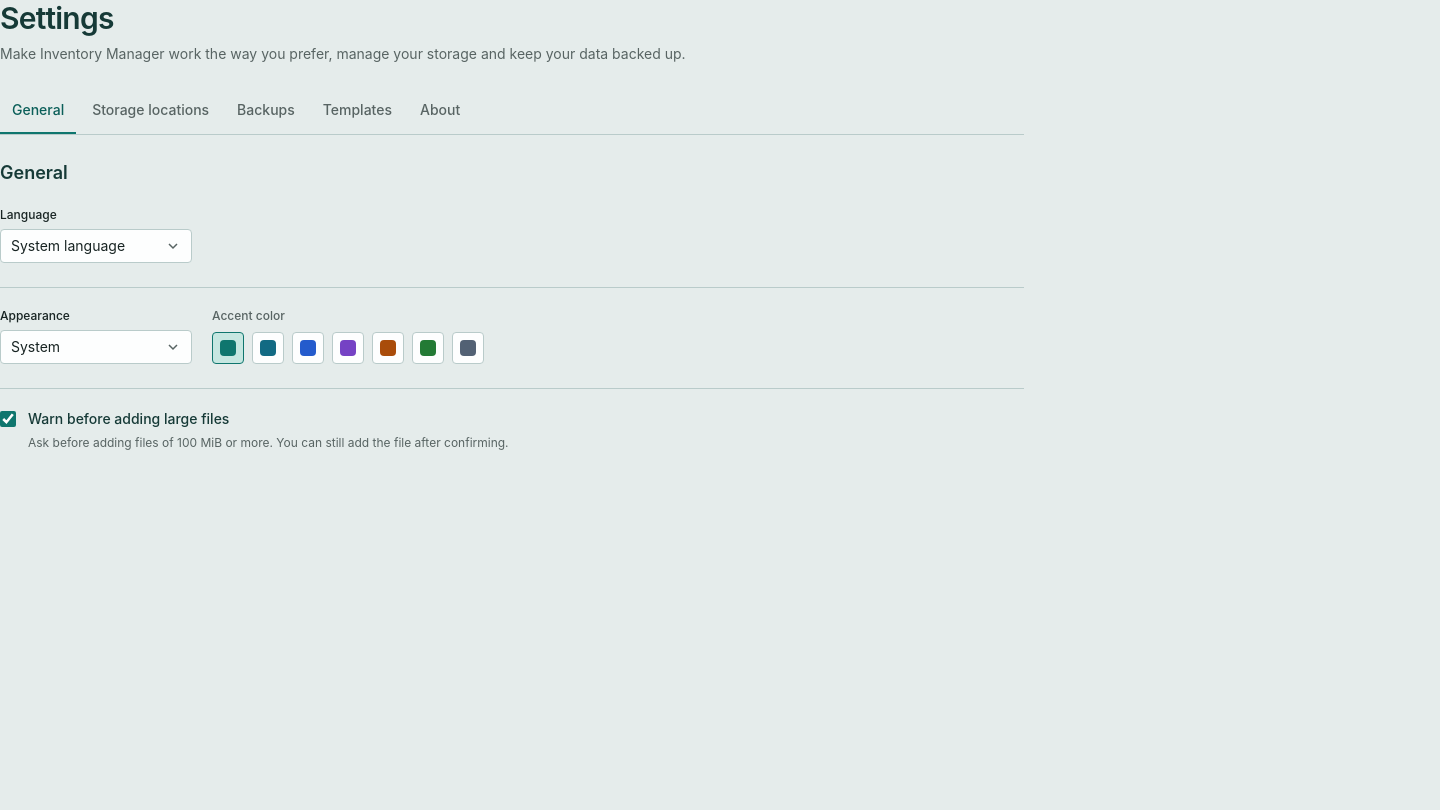
Test: reloads authoritative preferences after an explicit conflict recovery action
Click the dropdown named "Appearance".
click(96, 347)  # box [0, 330, 192, 364]
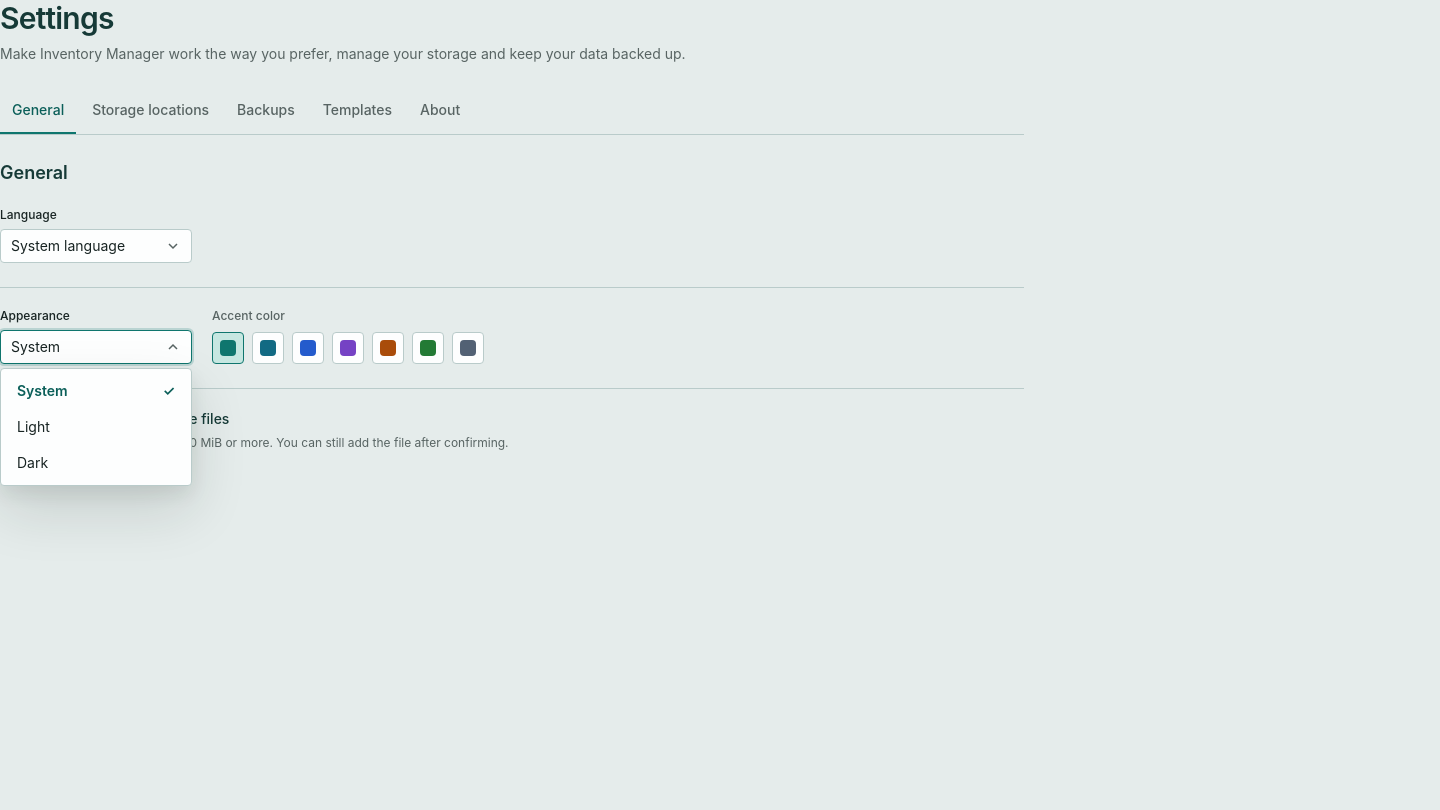
Click the option "Dark".
click(96, 463)  # box [5, 445, 187, 481]
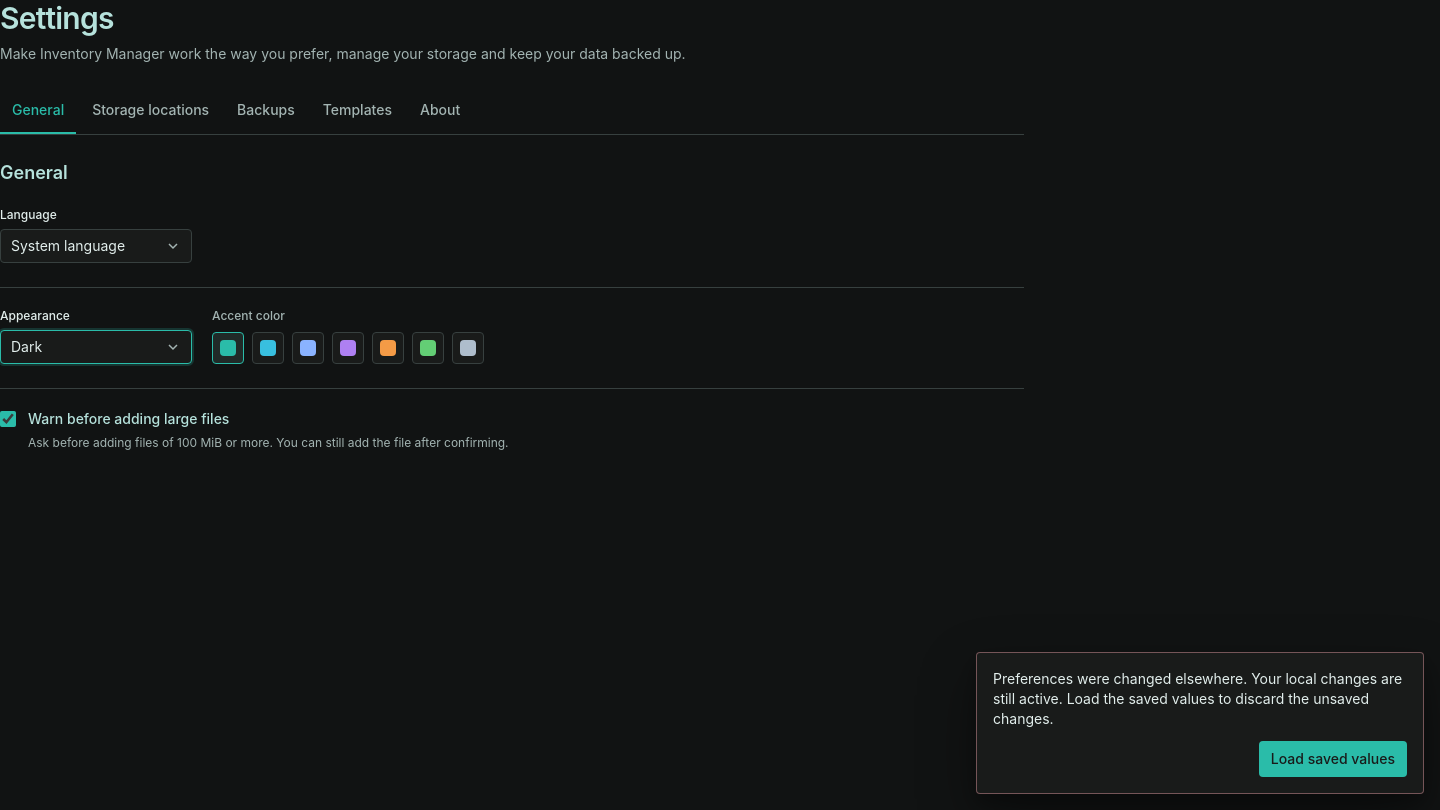
Check: the message shows "changed elsewhere", box [993, 670, 1402, 727]
Click the button "Load saved values".
click(1333, 759)  # box [1259, 741, 1407, 777]
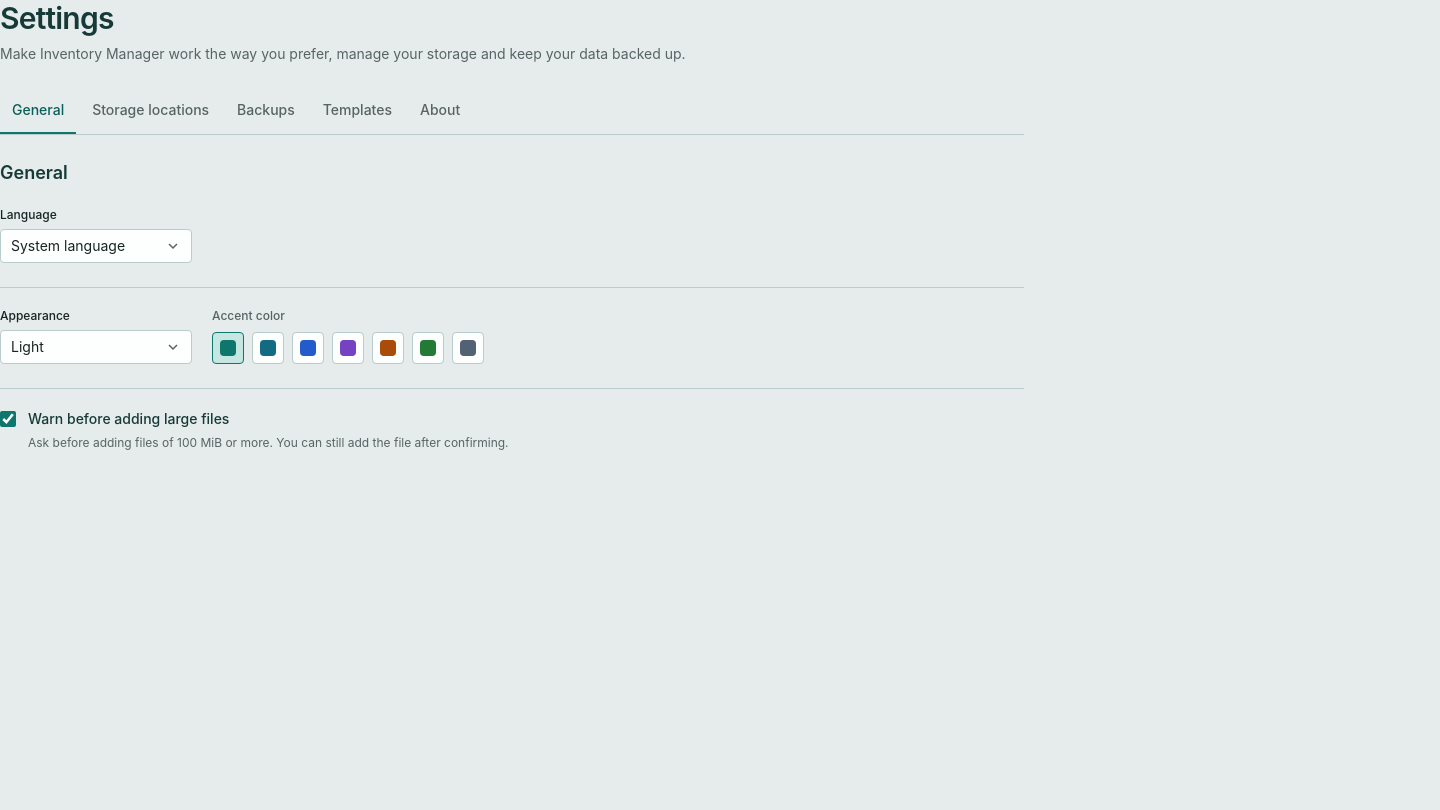
Check: the dropdown named "Appearance" reads "Light", box [0, 330, 192, 364]
